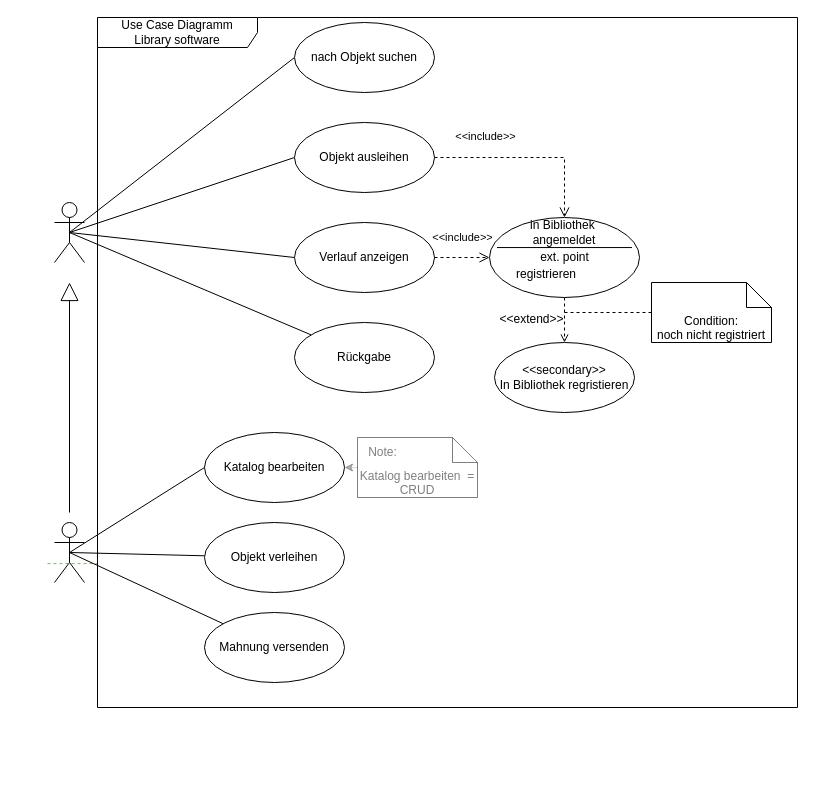
The diagram is 815 pixels wide and 795 high, and some of its shapes have lost their labels. The shapes that lost their labels are listed below. From the top down, each one's centre as x and y in pixels, then its label:
(x=69, y=232): Leser
(x=69, y=552): Bibliothekar
